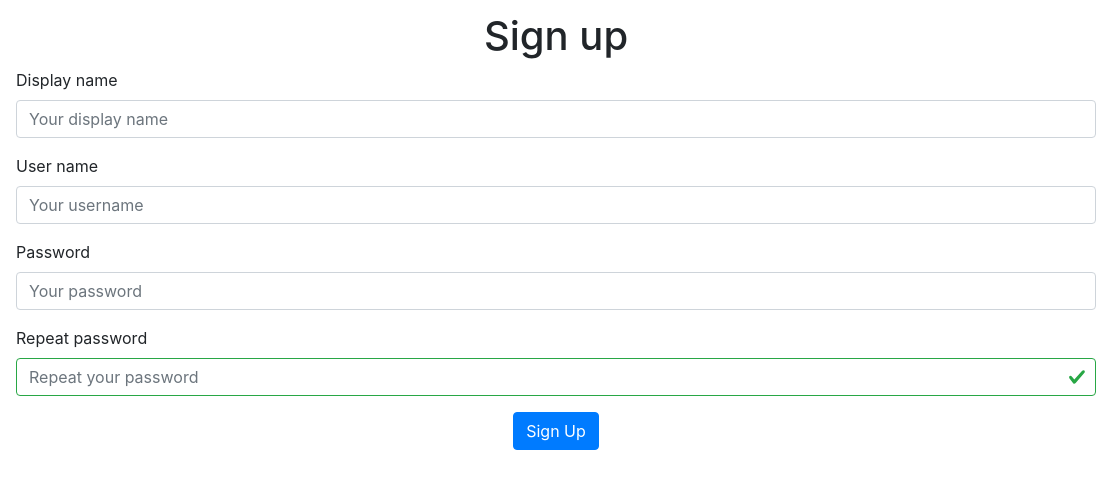
Test case: UserSignupPage › Interactions › hides the validation error when user changes the content of username
Type "my-display-name" into the field with placeholder "Your display name".
click(556, 119); type("my-display-name")  # box x1=16 y1=100 x2=1096 y2=138
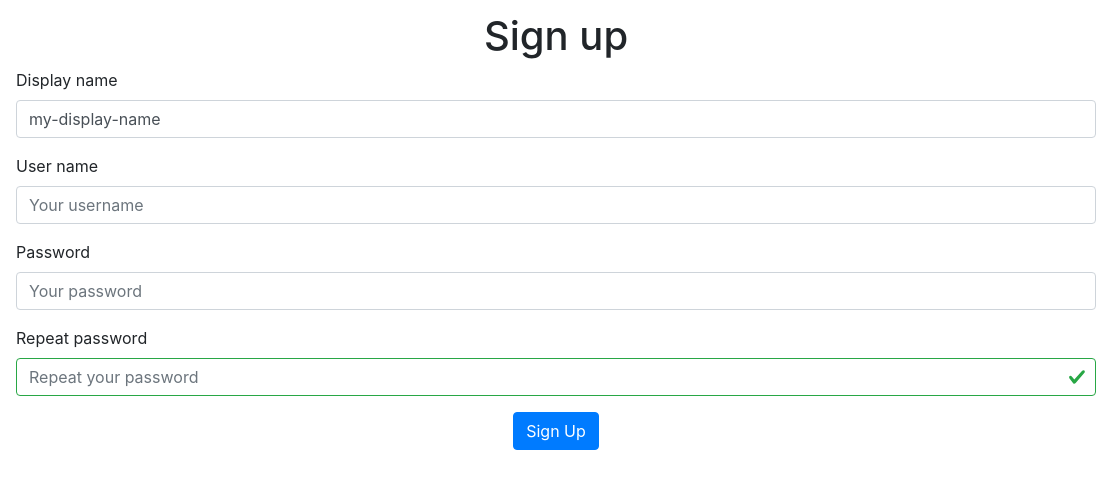
Type "my-user-name" into the field with placeholder "Your username".
click(556, 205); type("my-user-name")  # box x1=16 y1=186 x2=1096 y2=224
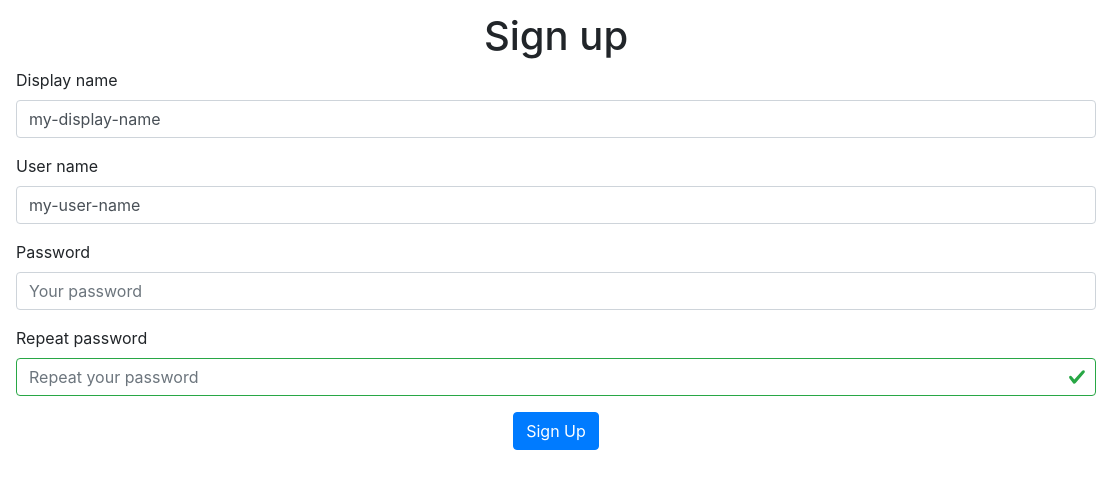
Type "P4ssword" into the password field with placeholder "Your password".
click(556, 291); type("P4ssword")  # box x1=16 y1=272 x2=1096 y2=310
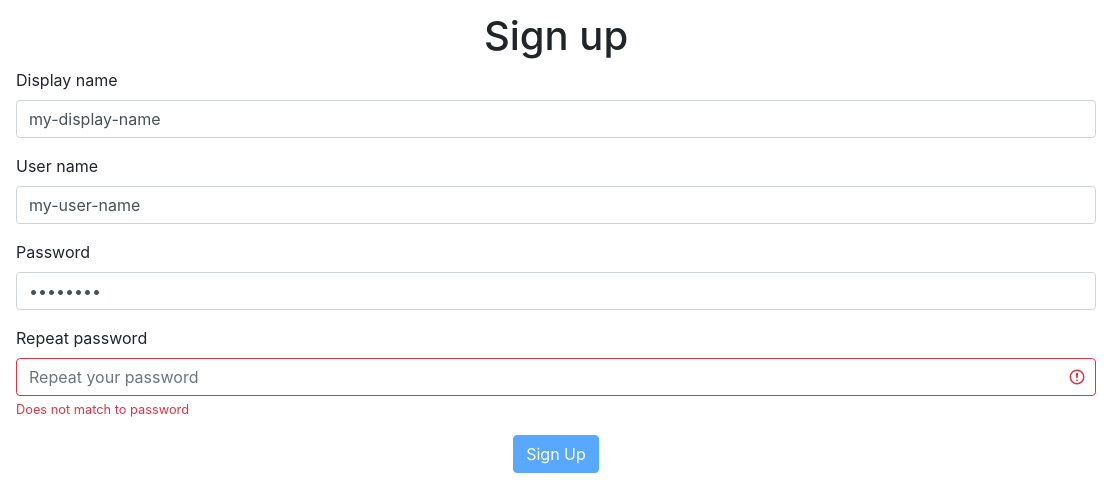
Type "P4ssword" into the password field with placeholder "Repeat your password".
click(556, 377); type("P4ssword")  # box x1=16 y1=358 x2=1096 y2=396
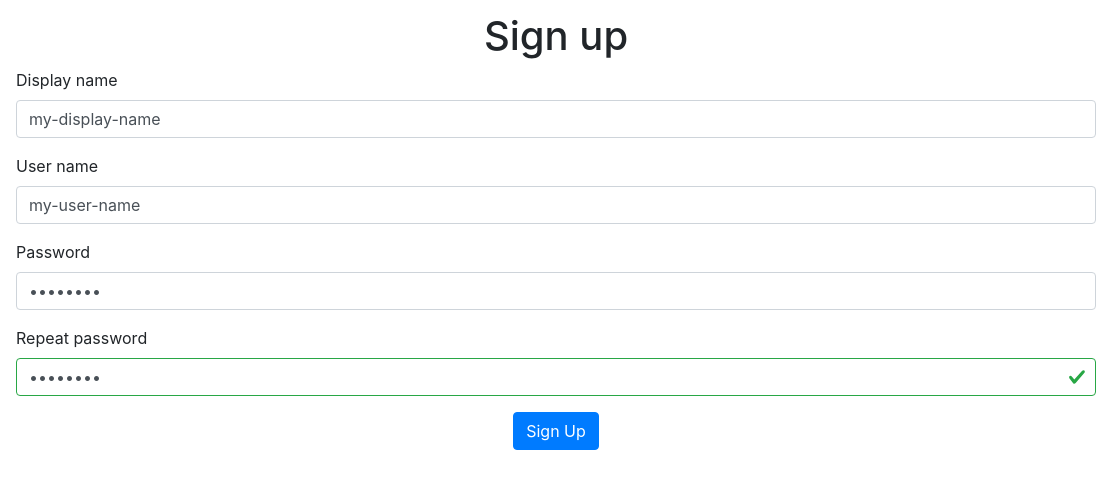
Click the button "Sign Up".
click(556, 431)  # box x1=513 y1=412 x2=599 y2=450
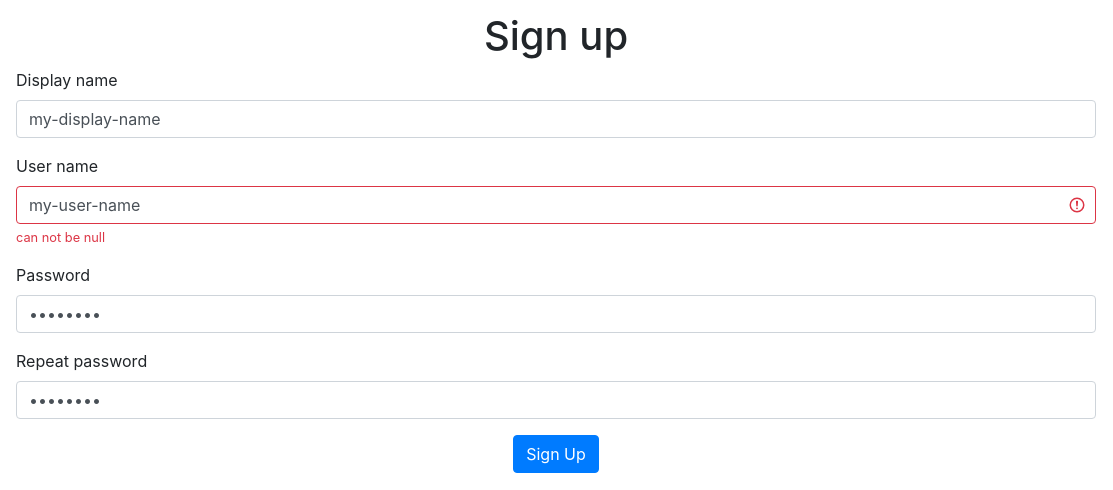
Result: the text "can not be null" is shown at x1=16 y1=230 x2=105 y2=245
Replace the text in the field with placeholder "Your username" below "User name" with "username updated" at (556, 205), box x1=16 y1=186 x2=1096 y2=224
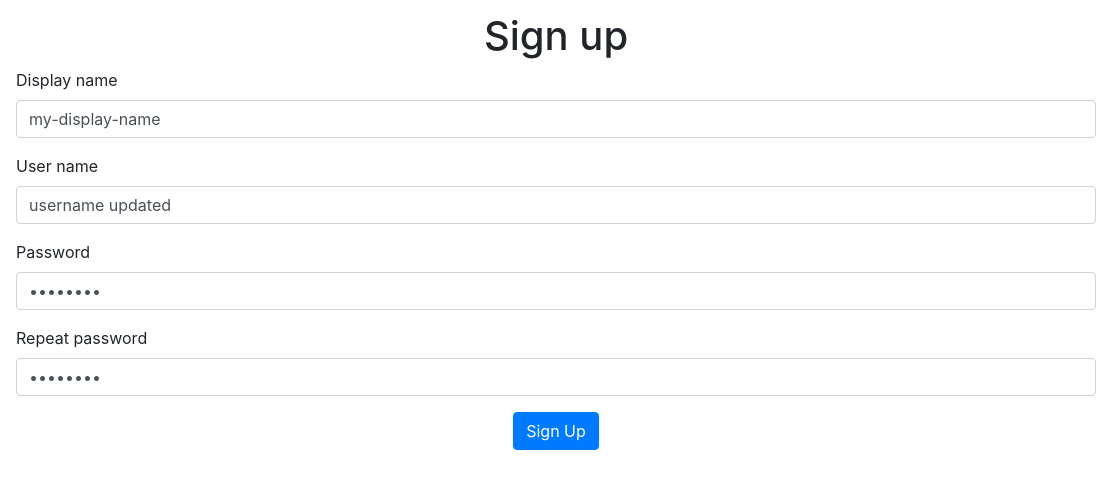
Result: the text "can not be null" is gone
